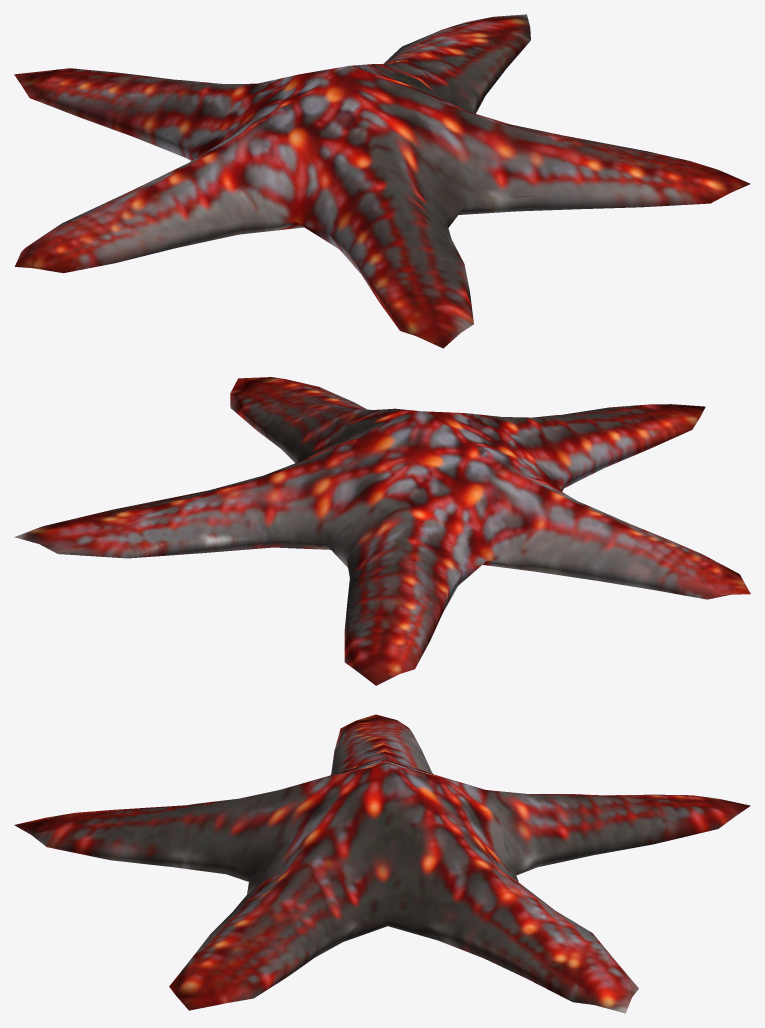
The model's file is redstarfish1UV_seafish.glb.
3 views of the same model, one above another, from view 1: azimuth 30°, elevation 25°; view 2: azimuth 150°, elevation 25°; view 3: azimuth 270°, elevation 25° (orthographic). The views are drawn at different scales.
Visible parts, largest first — view 1: Plane; view 2: Plane; view 3: Plane.
Boxes of the visible parts, <box> form: Plane: <box>14,14,750,348</box>; Plane: <box>14,377,750,685</box>; Plane: <box>14,714,750,1013</box>.
Bounding box in the file's own units: 1.46 × 0.2557 × 1.52.
1 material, 1 textured.
